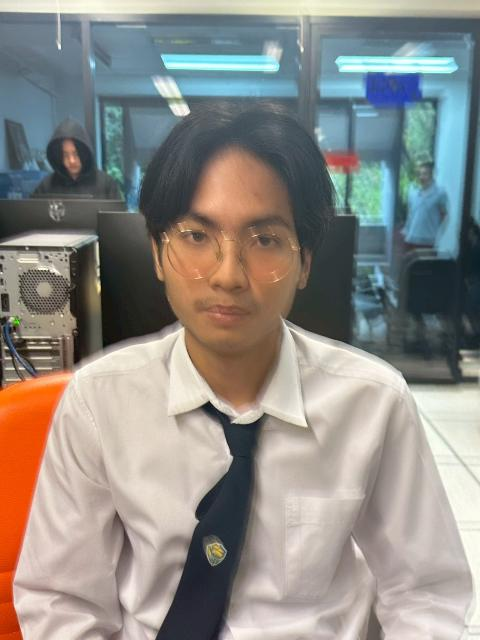fokus: (149, 111, 319, 349)
